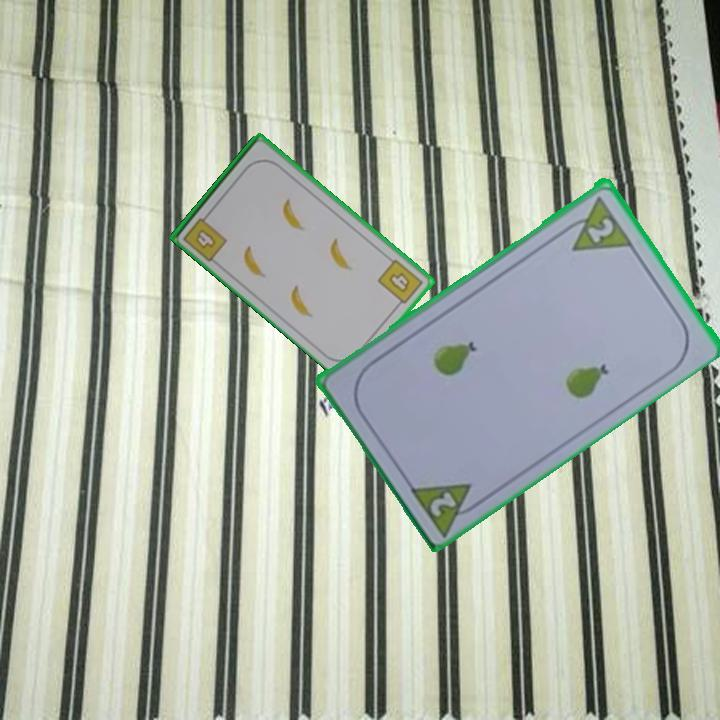2p: (557, 191, 635, 254), (406, 478, 487, 538)
4b: (374, 255, 426, 311), (179, 208, 230, 264)
